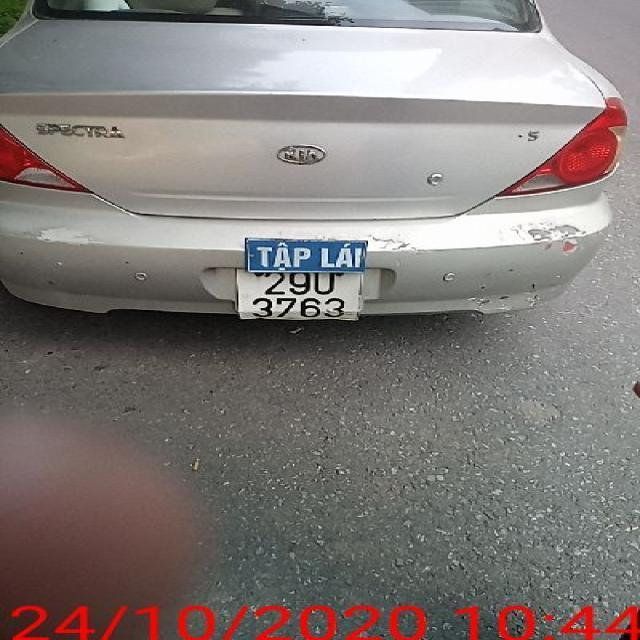bien_so_oto: (232, 268, 364, 322)
